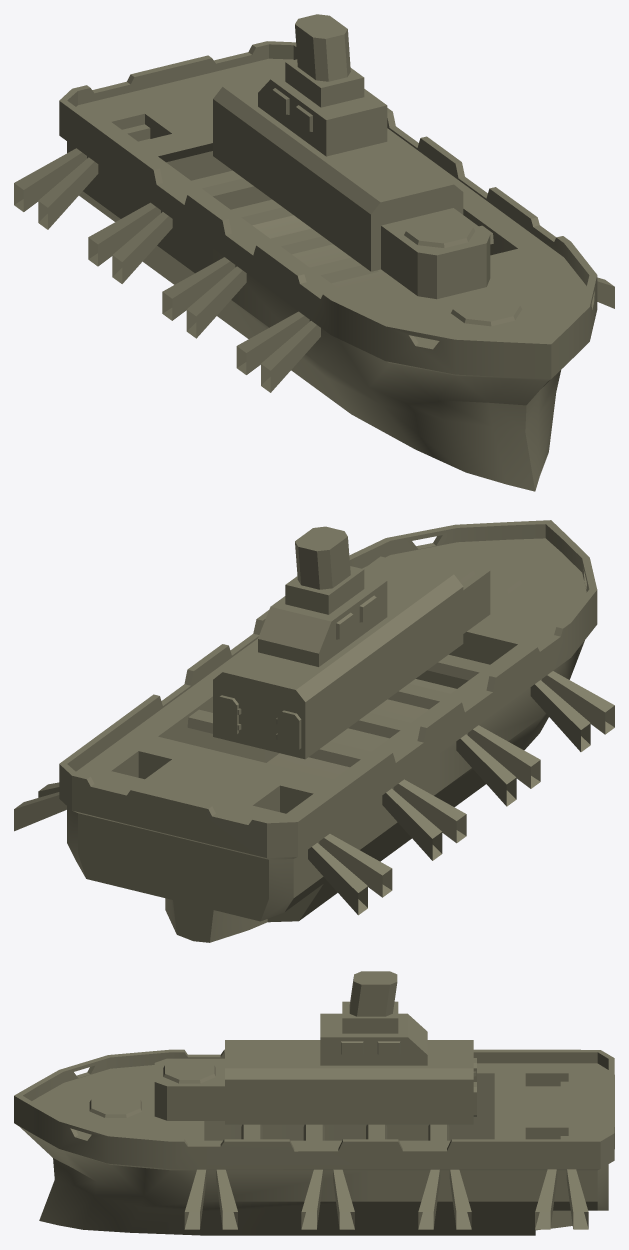
The model's file is Props_B_Ship.fbx.
3 renders of one model, top to bottom at view 1: azimuth 30°, elevation 25°; view 2: azimuth 150°, elevation 25°; view 3: azimuth 270°, elevation 25°, orthographic. The views are drawn at different scales.
Visible parts, largest first — view 1: Props_B_Ship_001, Props_B_Ship_004, Props_B_Ship_002; view 2: Props_B_Ship_001, Props_B_Ship_004, Props_B_Ship_003, Props_B_Ship_002; view 3: Props_B_Ship_001, Props_B_Ship_004, Props_B_Ship_002.
Boxes of the visible parts, x1=… form: Props_B_Ship_001: x1=14, y1=41, x2=614, y2=491; Props_B_Ship_004: x1=285, y1=14, x2=364, y2=107; Props_B_Ship_002: x1=272, y1=88, x2=312, y2=131; Props_B_Ship_001: x1=14, y1=520, x2=614, y2=942; Props_B_Ship_004: x1=285, y1=526, x2=364, y2=614; Props_B_Ship_003: x1=215, y1=695, x2=301, y2=753; Props_B_Ship_002: x1=336, y1=595, x2=376, y2=639; Props_B_Ship_001: x1=14, y1=1013, x2=614, y2=1235; Props_B_Ship_004: x1=342, y1=971, x2=398, y2=1033; Props_B_Ship_002: x1=341, y1=1041, x2=400, y2=1054.
Bounding box in the file's own units: 29.51 × 25.27 × 56.68.
